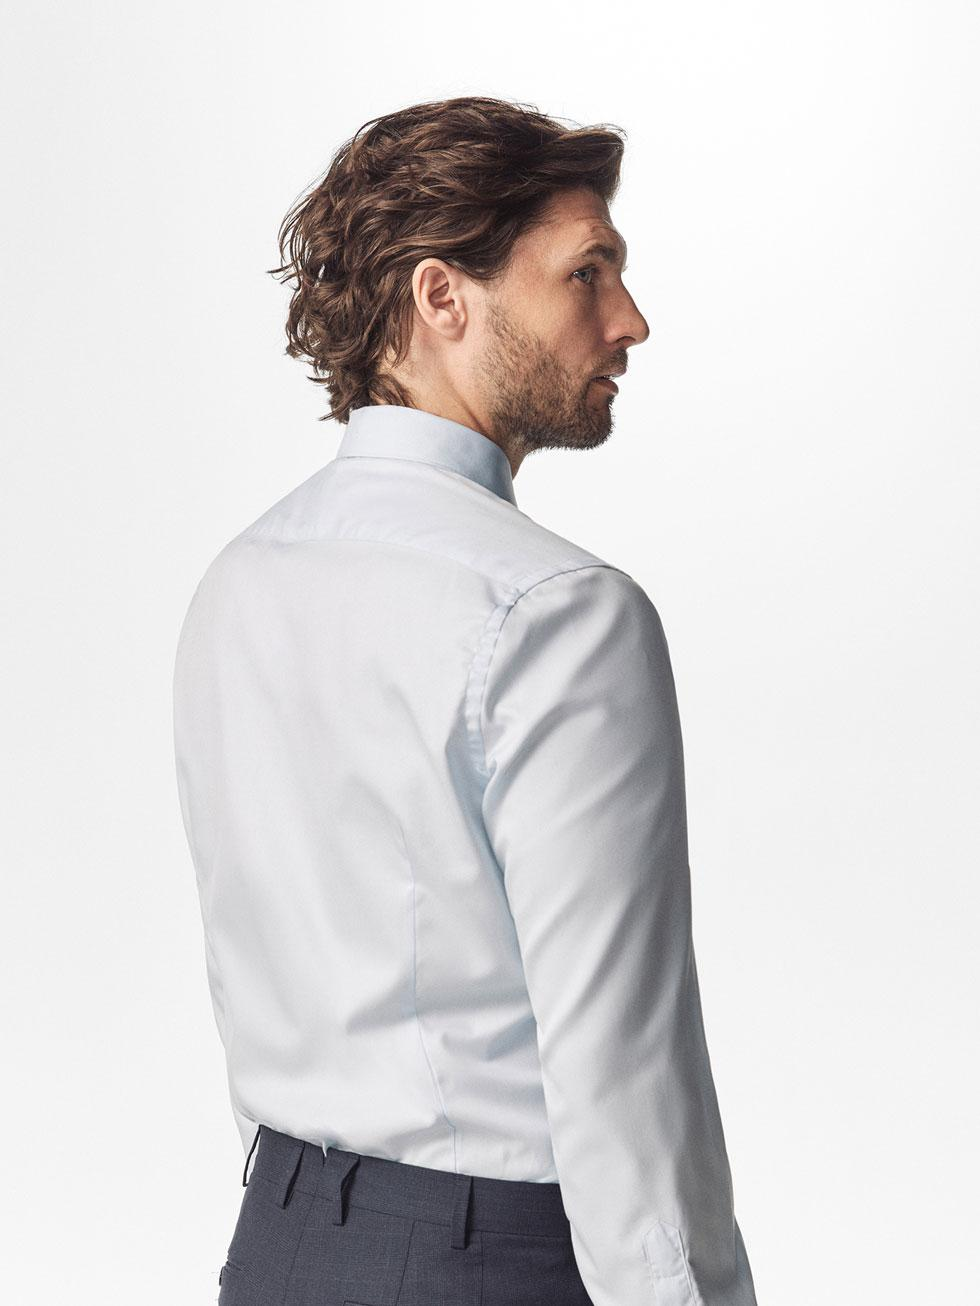teeshirt: (137, 413, 787, 1213)
